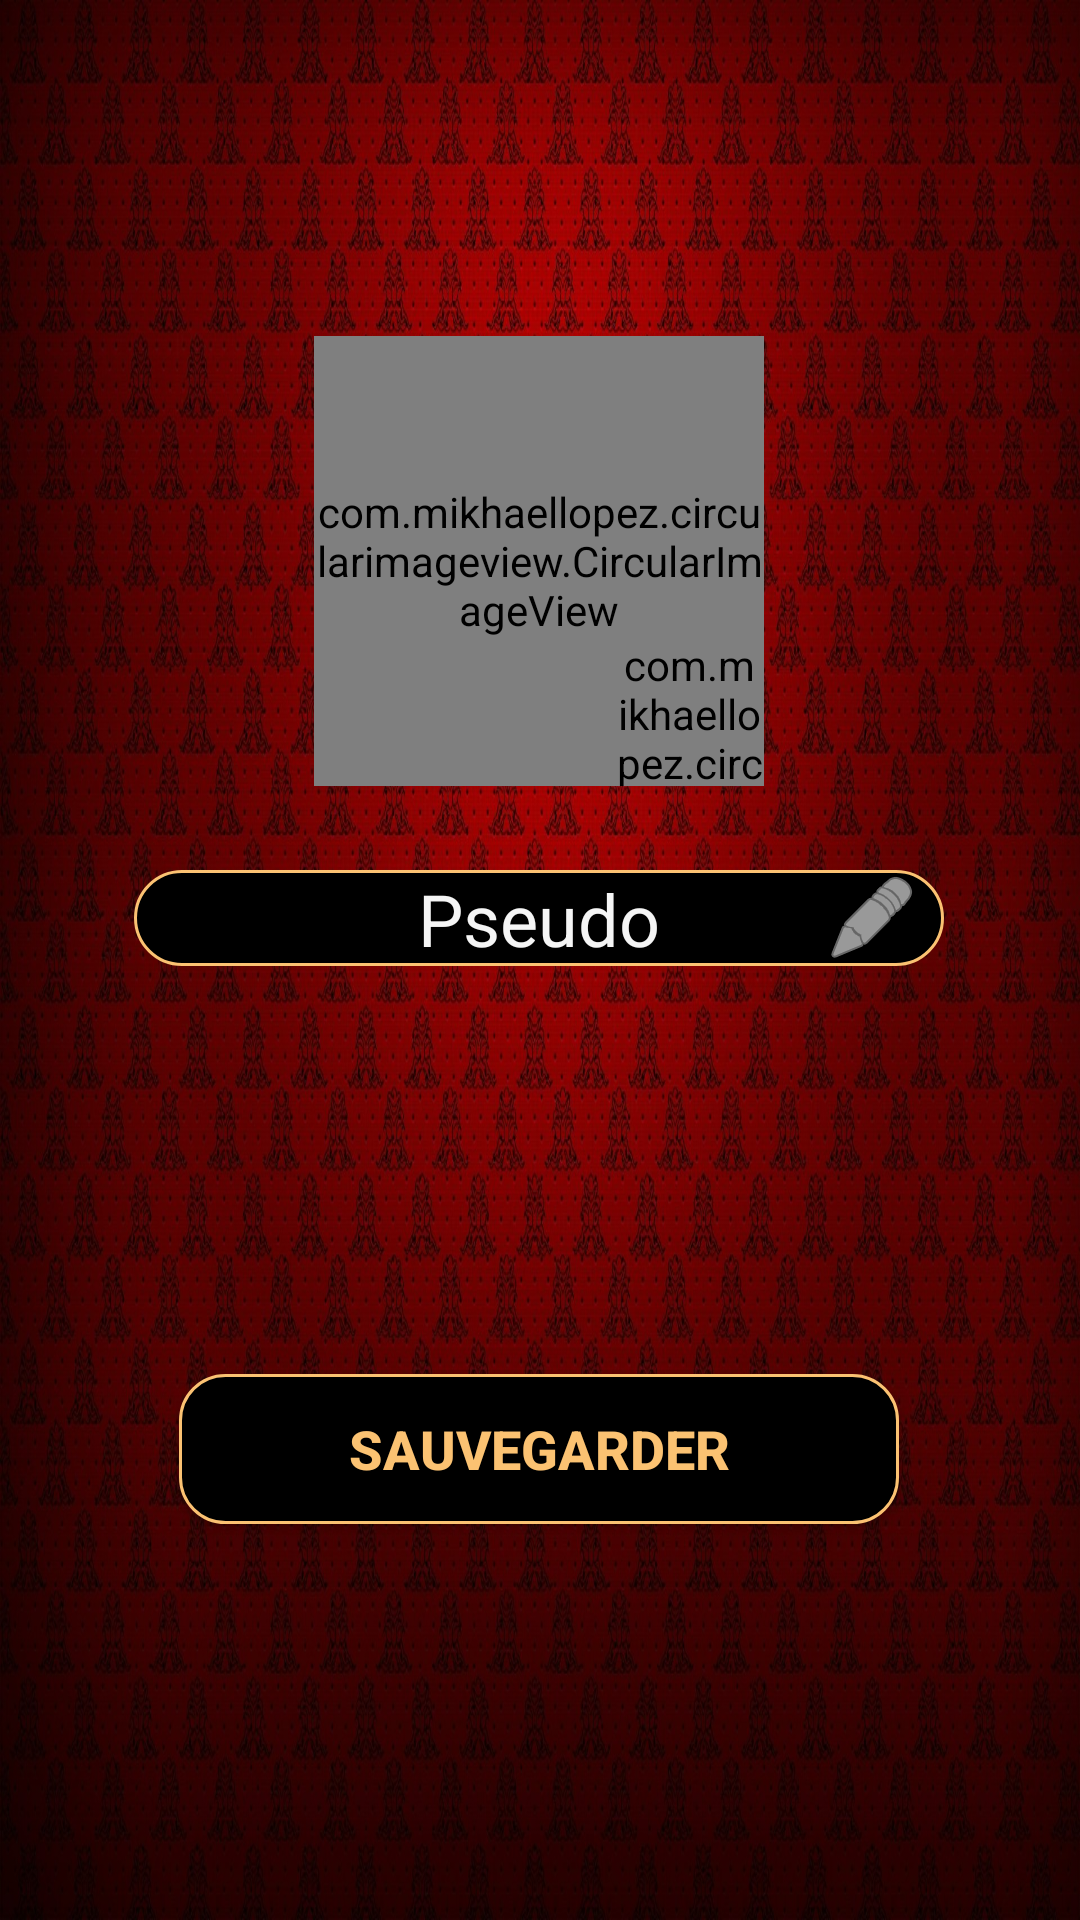

Screen size 1080x1920. Icon name, then its center in pixels as (x=x, y=y):
Petit Crayon: (x=872, y=918)
